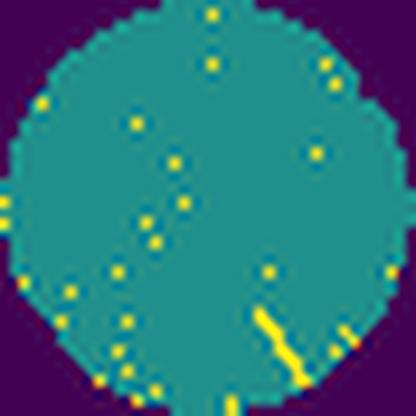Scratch: (251, 302, 314, 390)
